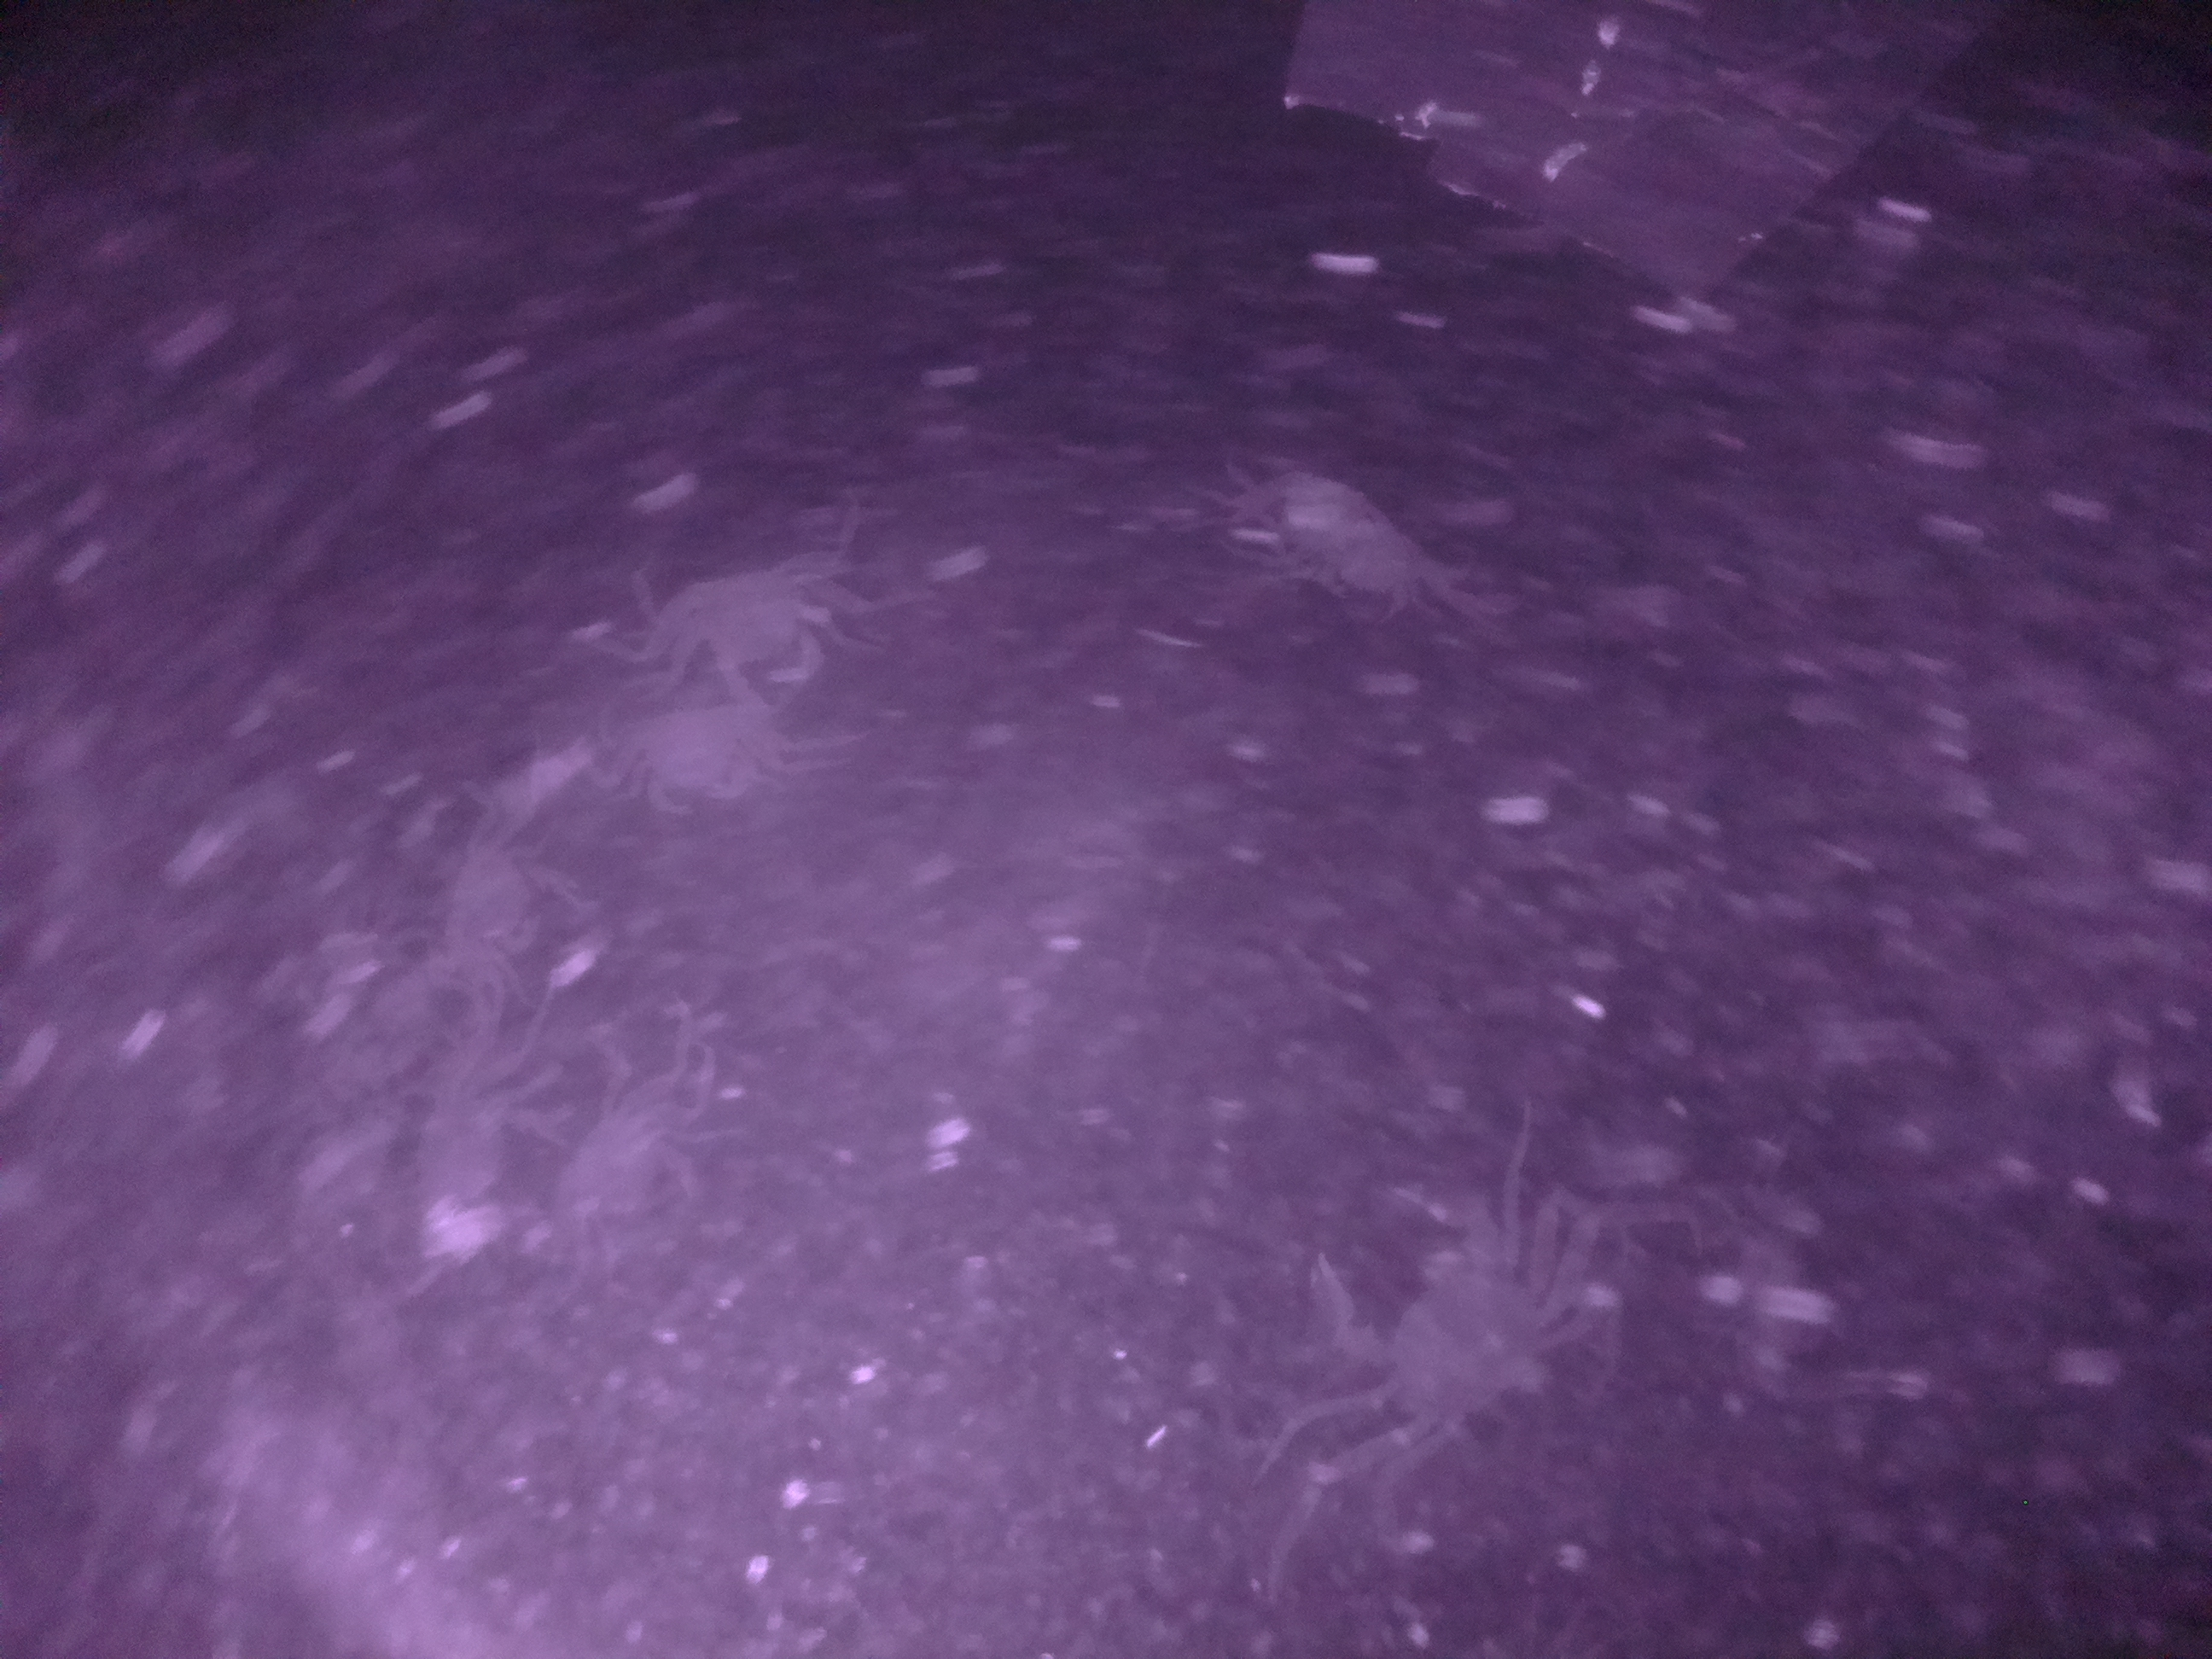Crab: (1301, 1148, 1588, 1495), (650, 537, 845, 727)
